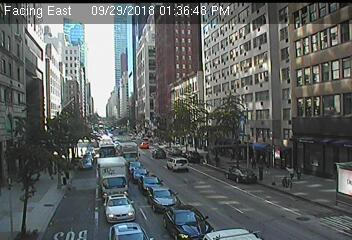car: (163, 205, 215, 240), (95, 157, 129, 199), (146, 186, 182, 213), (104, 195, 135, 222), (107, 222, 152, 240), (117, 143, 140, 166), (225, 167, 256, 184), (137, 175, 163, 194), (98, 141, 115, 163), (128, 167, 149, 183), (166, 157, 188, 172), (125, 160, 143, 175), (182, 152, 200, 164), (151, 149, 166, 160), (79, 158, 92, 169), (168, 148, 181, 157), (83, 153, 92, 161), (139, 142, 149, 149)
